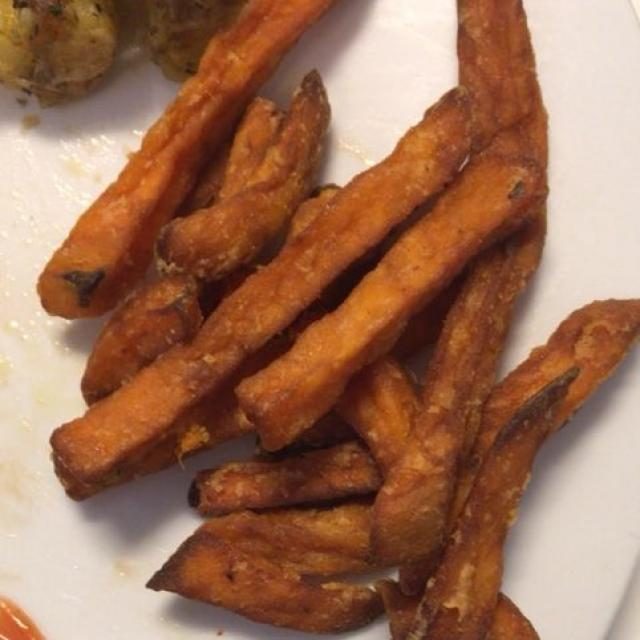sweet-potato: (47, 18, 635, 627)
